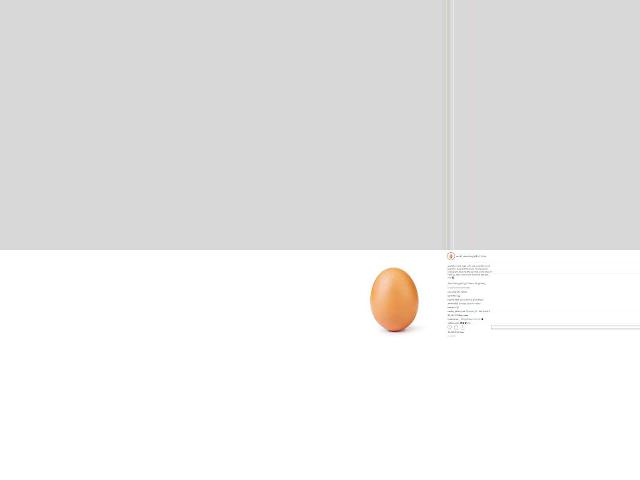egg: (370, 268, 418, 331)
